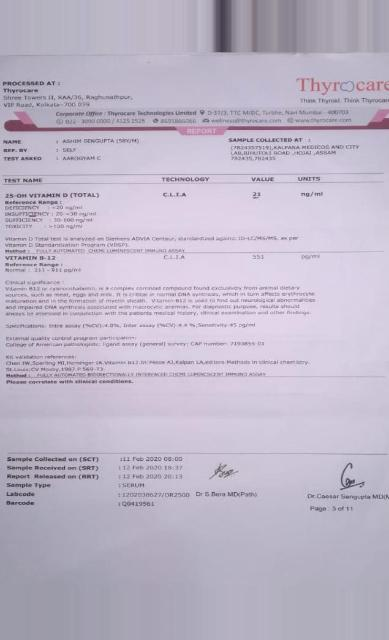Clinical_Conditions: (4, 286, 320, 319)
Name: (62, 137, 142, 144)
Ref_By: (61, 147, 80, 153)
Technology: (161, 190, 192, 200), (162, 254, 191, 264)
Test_Asked: (62, 155, 104, 163)
Test_Name: (4, 191, 104, 232), (4, 254, 88, 277)
Unit: (297, 252, 327, 265), (298, 190, 327, 200)
Value: (249, 253, 271, 264), (250, 189, 266, 201)
